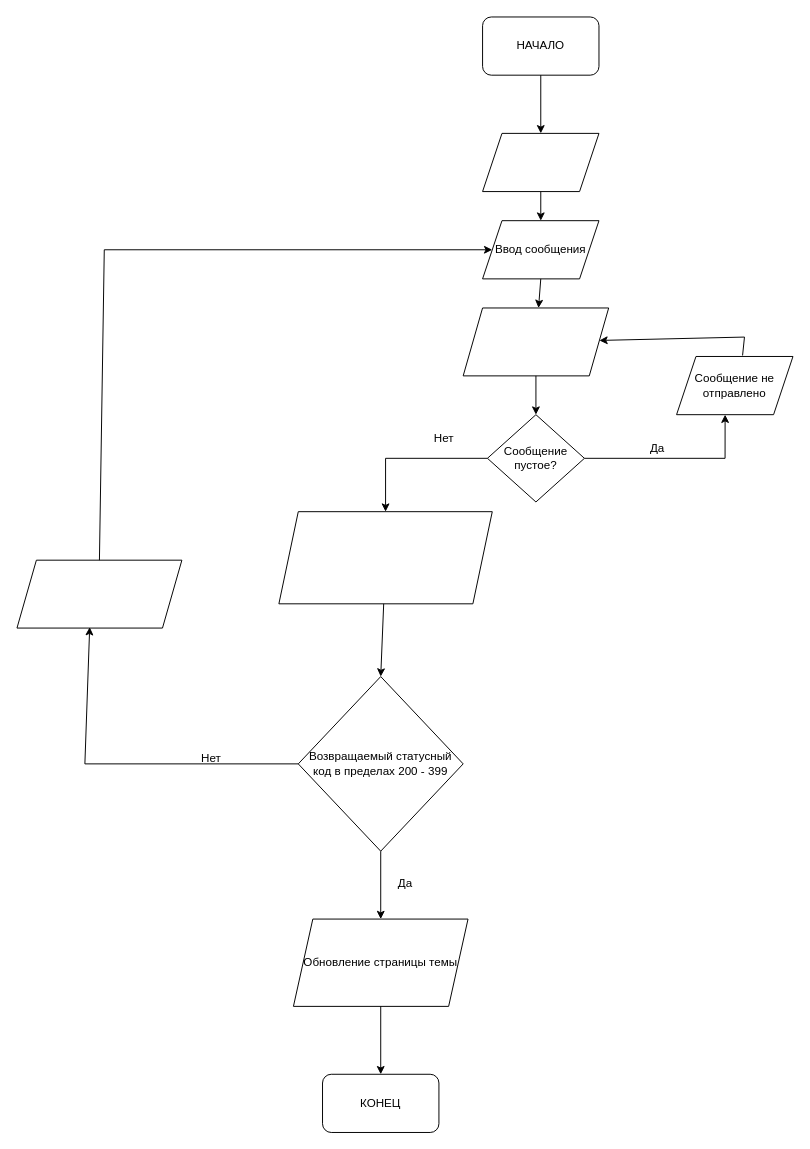
Image size: 810x1149. Some labels were removed from this diagram. The centre of each missing label's shape, as x and y in pixels:
Выбор темы обсуждения: point (540, 162)
Отправка сообщения: point (535, 341)
Отправка сообщения об ошибке соединения с сервером: point (99, 593)
Формирование класса сообщения, формирование post запроса и отправка его: point (385, 557)
